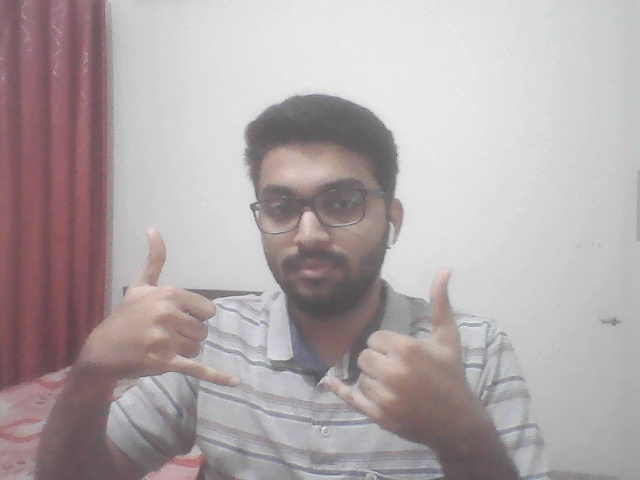play: (84, 222, 497, 457)
